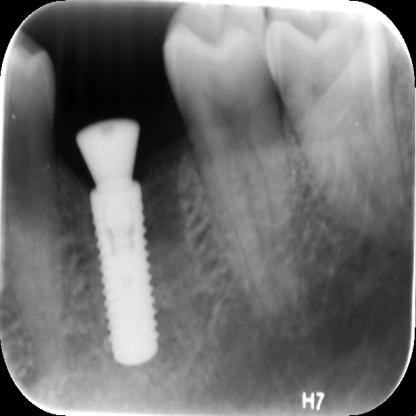ITI: (84, 177, 166, 370)
